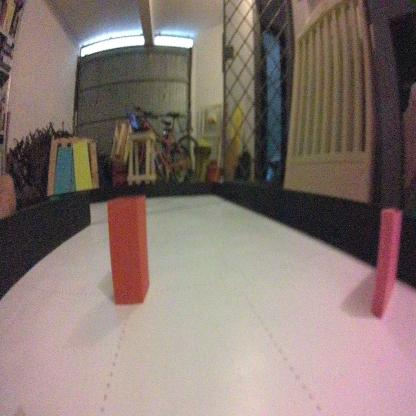magenta: (372, 207, 404, 324)
red: (105, 189, 152, 311)
